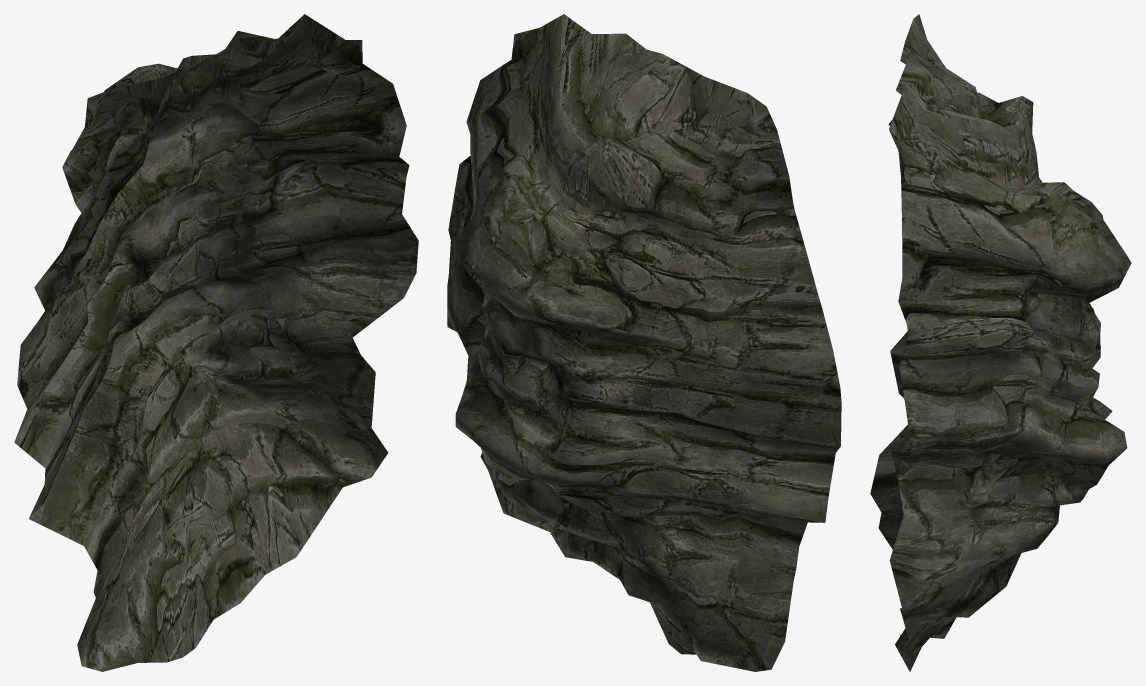
Rendered from TI_Cliff_02_n.fbx.
3 views of the same model, side by side, from view 1: azimuth 30°, elevation 25°; view 2: azimuth 150°, elevation 25°; view 3: azimuth 270°, elevation 25° (orthographic). The views are drawn at different scales.
Parts seen in each view (by area): view 1: TI_Cliff_02_n; view 2: TI_Cliff_02_n; view 3: TI_Cliff_02_n.
Part boxes in pixels (bbox=[...]): TI_Cliff_02_n: bbox=[14, 14, 418, 671]; TI_Cliff_02_n: bbox=[447, 14, 841, 671]; TI_Cliff_02_n: bbox=[870, 14, 1131, 671].
Bounding box in the file's own units: 5.96 × 8.78 × 3.2.
